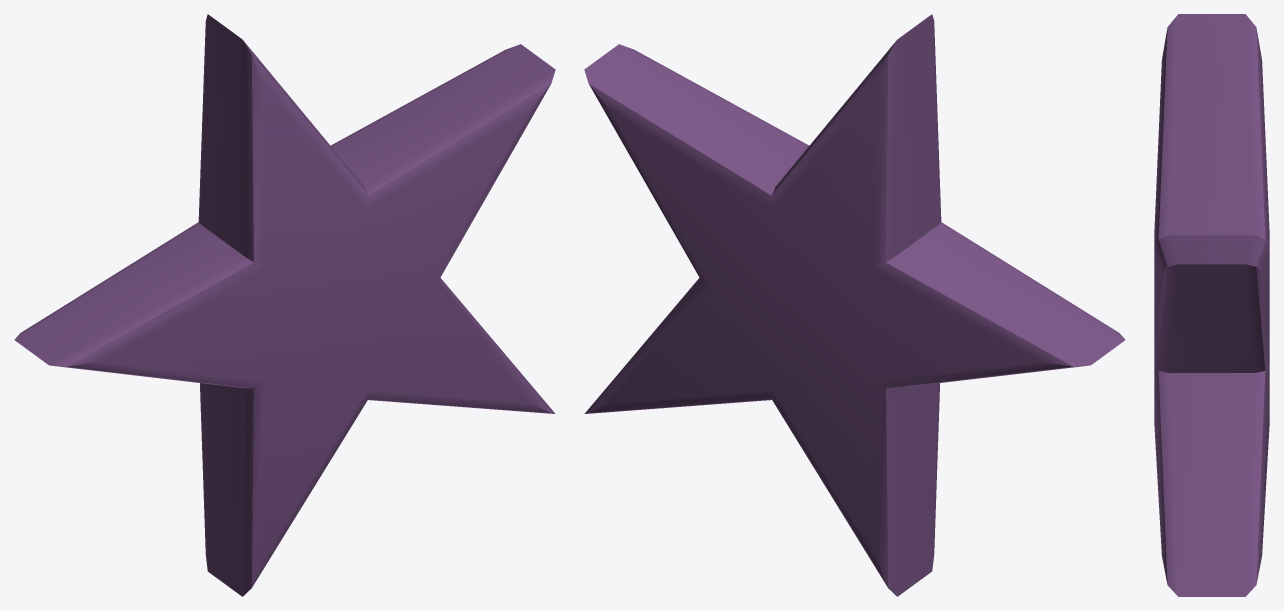
The model's file is stella_nightmare.fbx.
3 renders of one model, left to right at view 1: azimuth 30°, elevation 25°; view 2: azimuth 150°, elevation 25°; view 3: azimuth 270°, elevation 25°, orthographic. The views are drawn at different scales.
Visible parts, largest first — view 1: pCylinder1; view 2: pCylinder1; view 3: pCylinder1.
Boxes of the visible parts, <box> form: pCylinder1: <box>14,14,555,596</box>; pCylinder1: <box>584,14,1125,596</box>; pCylinder1: <box>1154,14,1269,596</box>.
Bounding box in the file's own units: 7.27 × 7.64 × 1.48.
